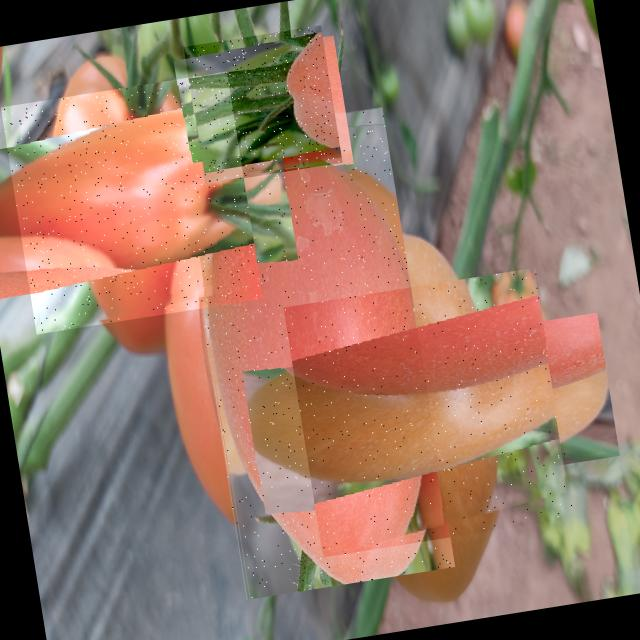Ripe Tomato: (174, 106, 455, 600), (284, 268, 575, 558)
Unripe Tomato: (1, 72, 263, 334), (184, 25, 342, 184)
